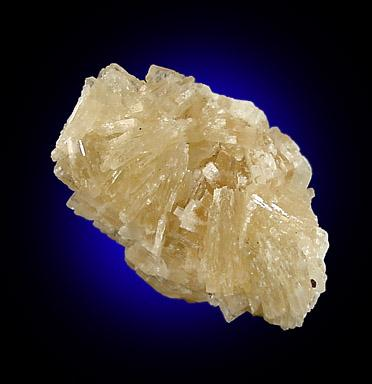prehnite: (50, 64, 329, 332)
